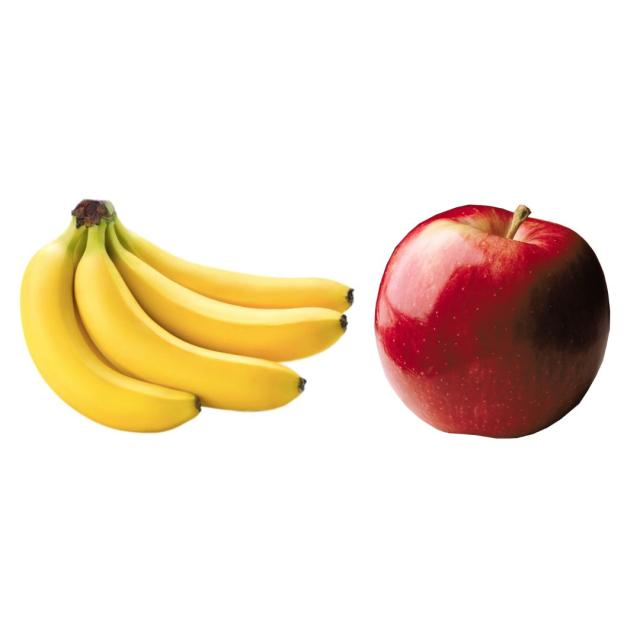Apel: (374, 202, 610, 439)
Pisang: (19, 198, 354, 434)
